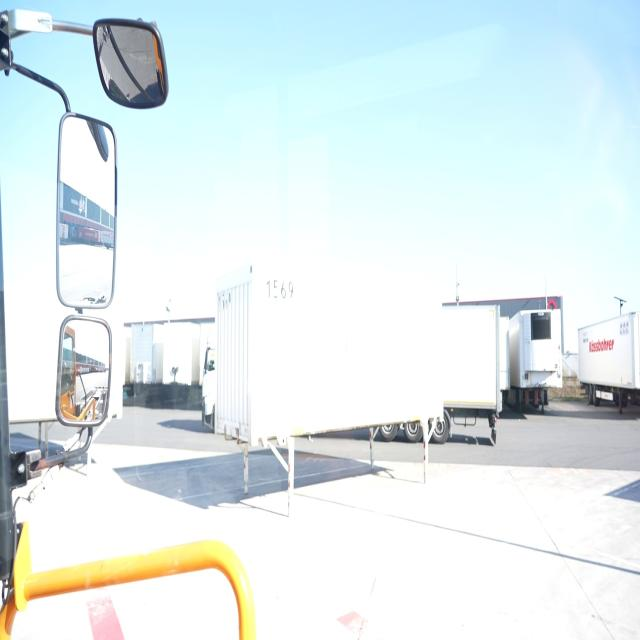Code: (262, 273, 298, 304)
